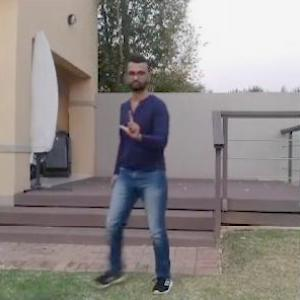land_hand: (120, 104, 152, 145)
